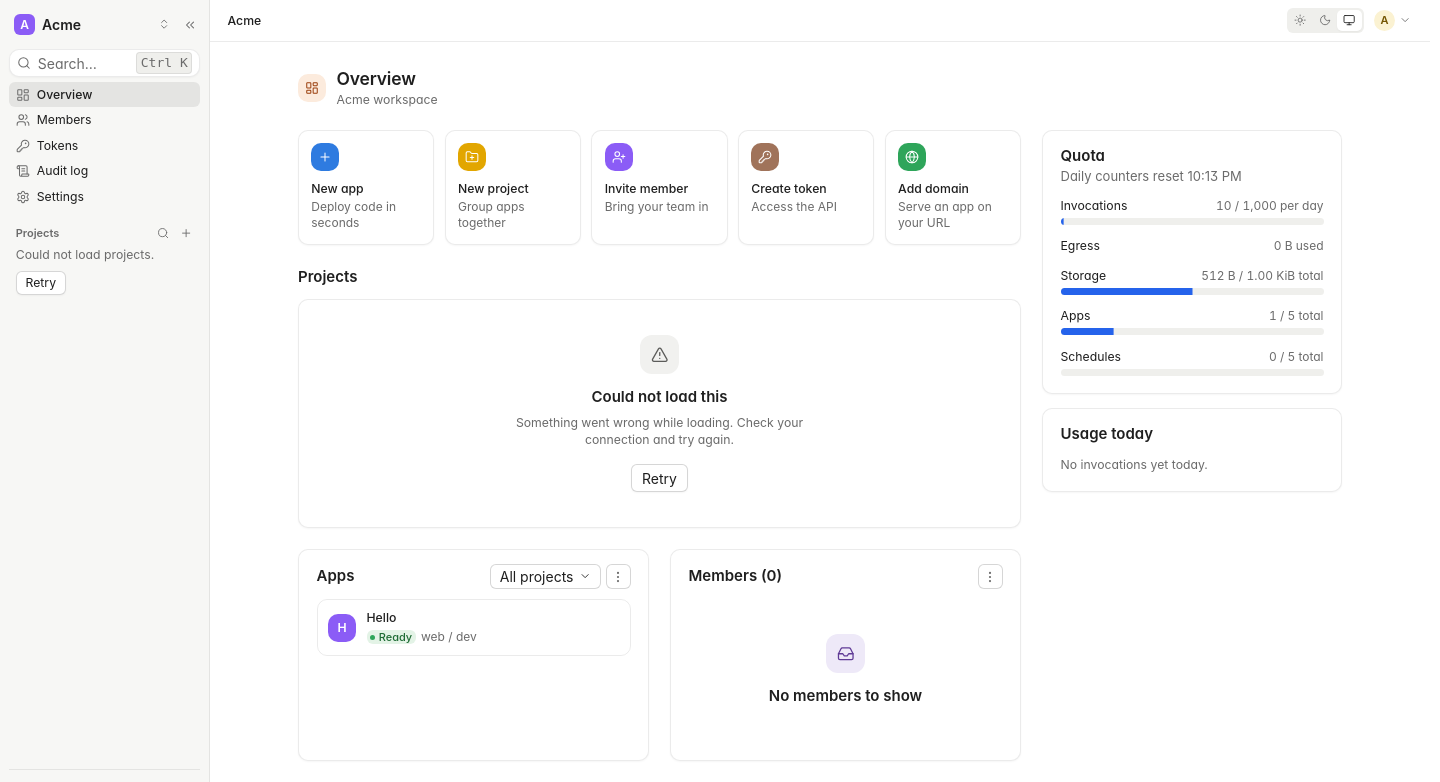
Test: app shell › overview shows retry on projects error and recovers
Click the button "Retry" below "Could not load this".
click(659, 478)  # box [630, 464, 688, 492]
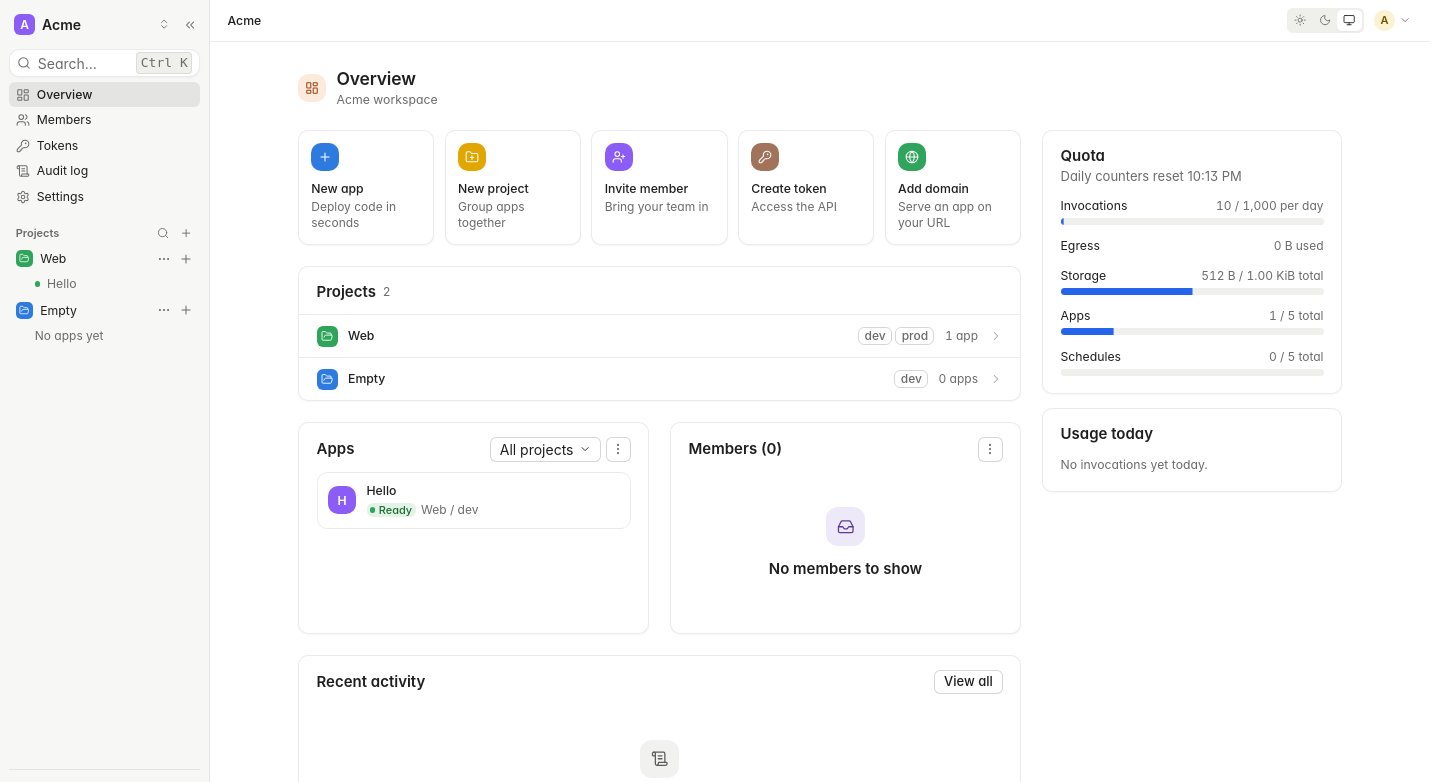
Expected: the link "Web" is shown, [16, 250, 66, 267]
